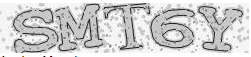6: (149, 7, 197, 50)
M: (53, 3, 104, 52)
S: (11, 7, 59, 54)
T: (102, 2, 152, 52)
Y: (197, 4, 245, 52)
